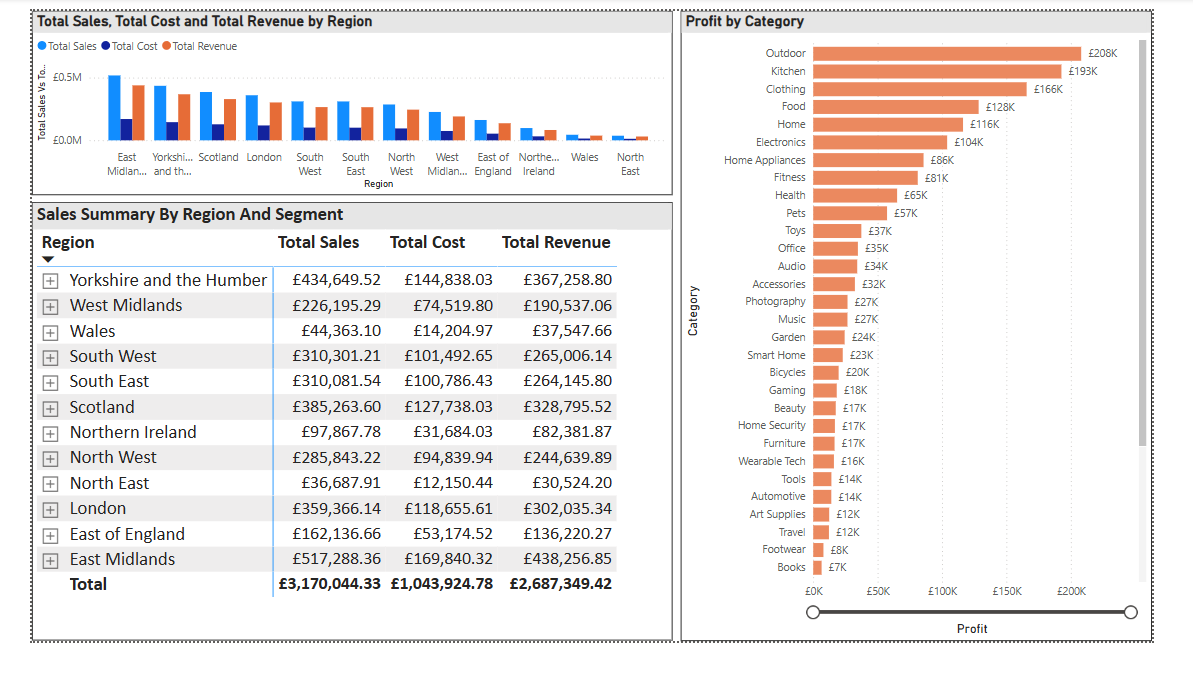

What the dashboard file says about the page in this screenshot:
{"tool":"powerbi","page":{"name":"Page 2","canvas":[1280,720],"ordinal":1},"visuals":[{"type":"clusteredColumnChart","title":"Total Sales, Total Cost and Total Revenue by Region","fields":{"Category":["Location.Region"],"Y":["Sum(Sales.Total Sales)","Sum(Sales.Total Cost)","Sum(Sales.Total Revenue)"]},"box":[0,0,732,210],"z":1000},{"type":"pivotTable","title":"Sales Summary By Region And Segment","fields":{"Rows":["Location.Region","Product.Segment"],"Values":["Sum(Processed Sales Dataset.Total Sales)","Sum(Sales.Total Cost)","Sum(Sales.Total Revenue)"]},"box":[0,219,732,501],"z":1001},{"type":"clusteredBarChart","title":" Profit by Category","fields":{"Category":["Product.Category"],"Y":["Sum(Sales.Profit)"]},"box":[742,0,538,720],"z":1002}]}

Visuals, with their boxes in screenshot pixels (x1, y1, x2, y2), scaled from the page's 1280x720 canvas onto the 1193x677 screenshot:
"Total Sales, Total Cost and Total Revenue by Region" clusteredColumnChart: x1=0, y1=0, x2=682, y2=197
"Sales Summary By Region And Segment" pivotTable: x1=0, y1=206, x2=682, y2=676
" Profit by Category" clusteredBarChart: x1=692, y1=0, x2=1192, y2=676
